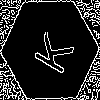K: (25, 25, 75, 77)
